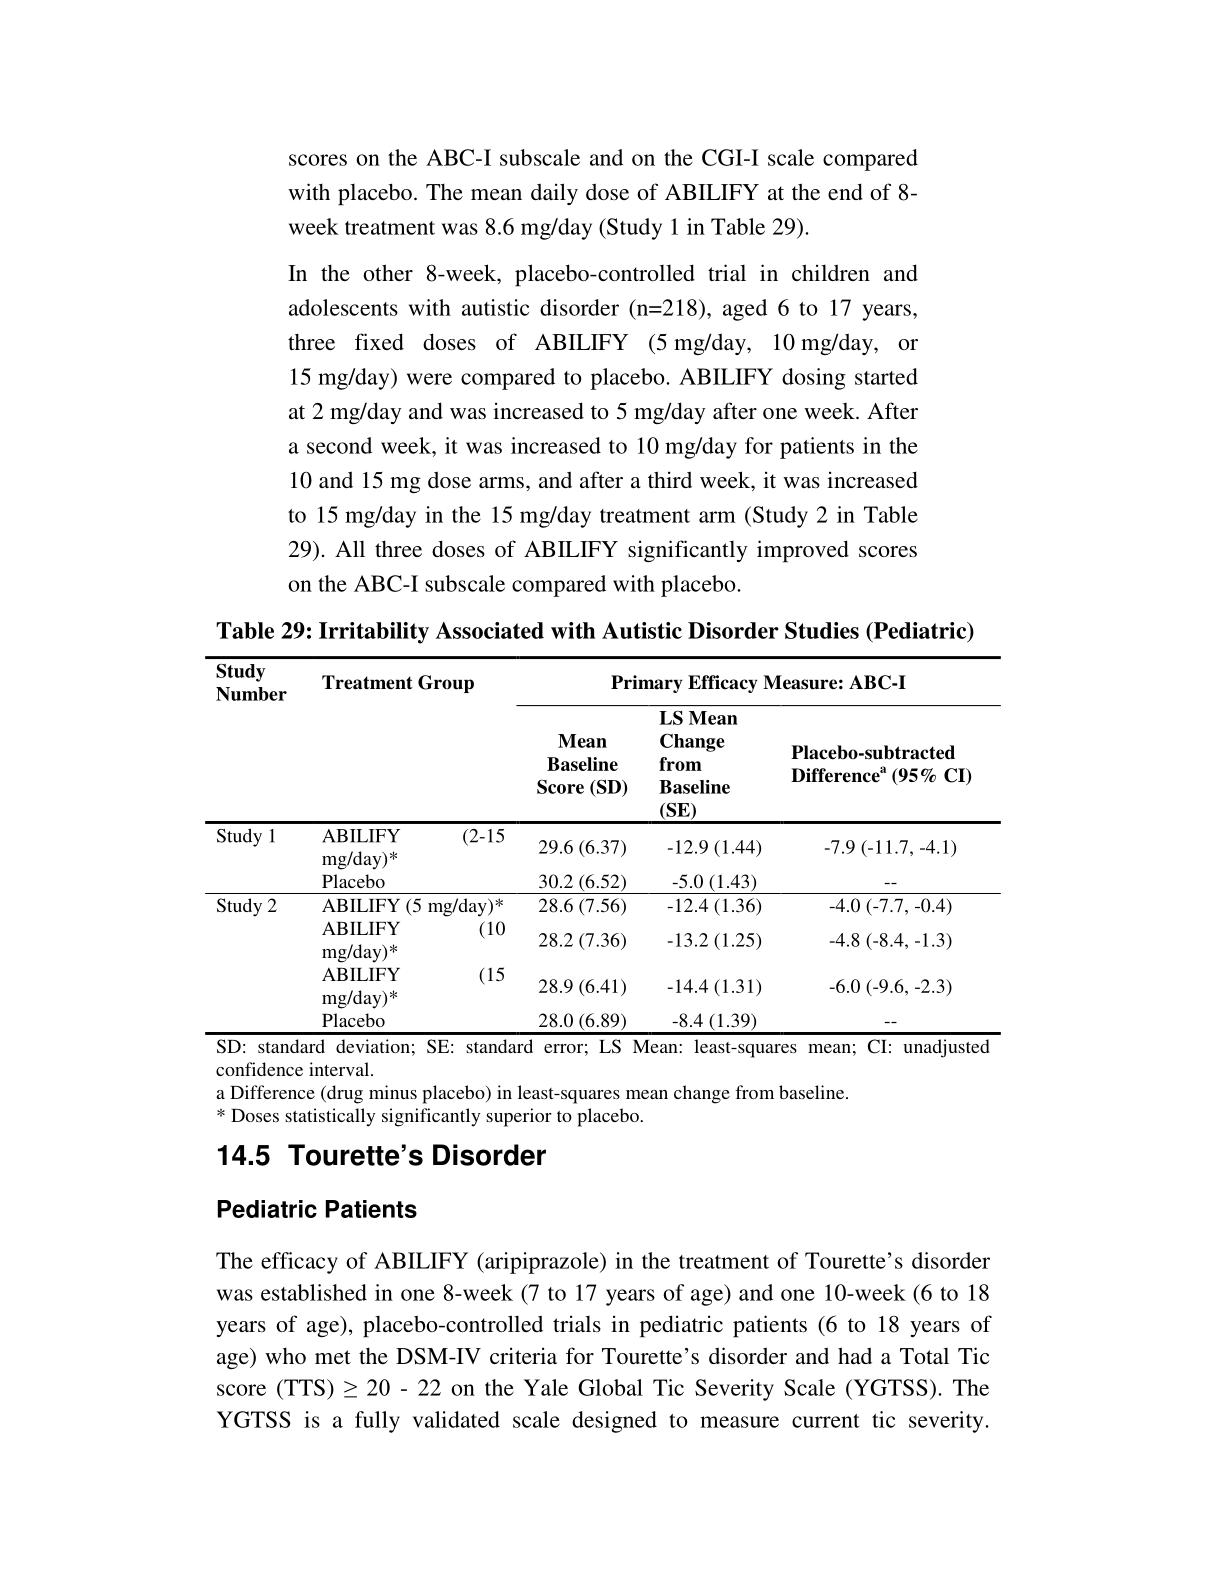partial_lined_merged_cells: (203, 656, 1002, 1035)
